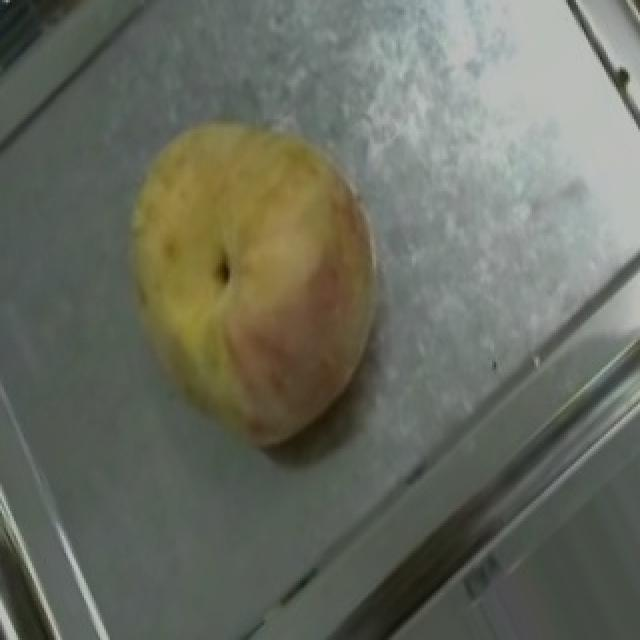Fruit: (80, 74, 430, 498)
